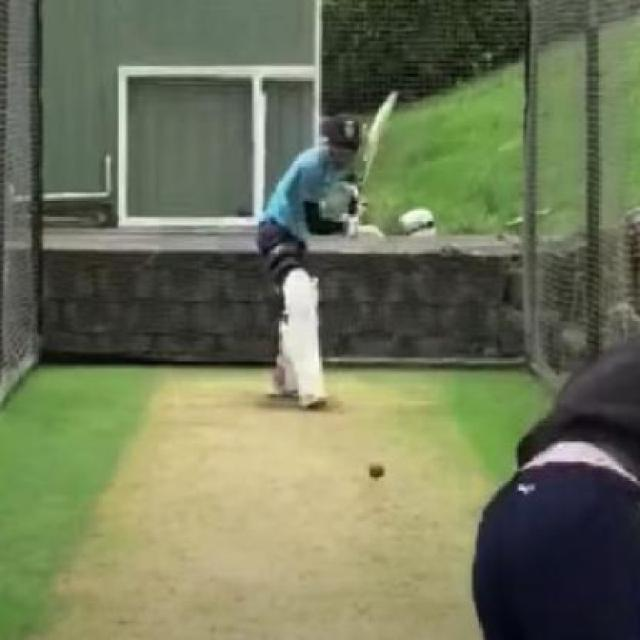ball: (362, 456, 388, 482)
